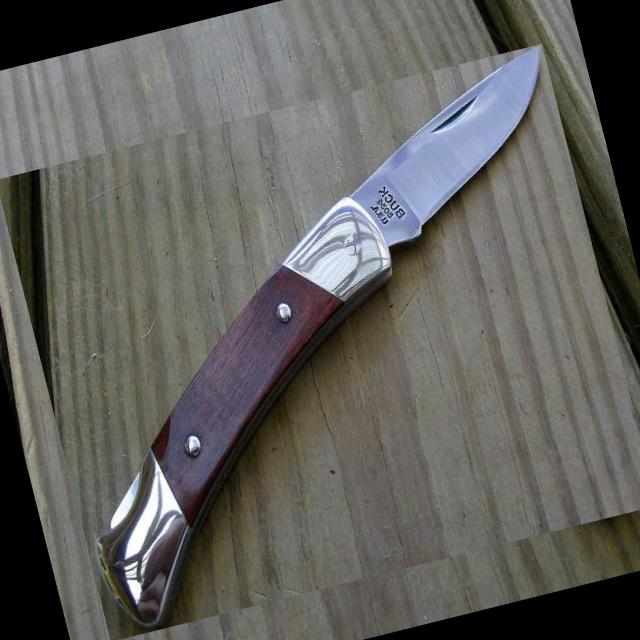Knife: (88, 44, 542, 633)
